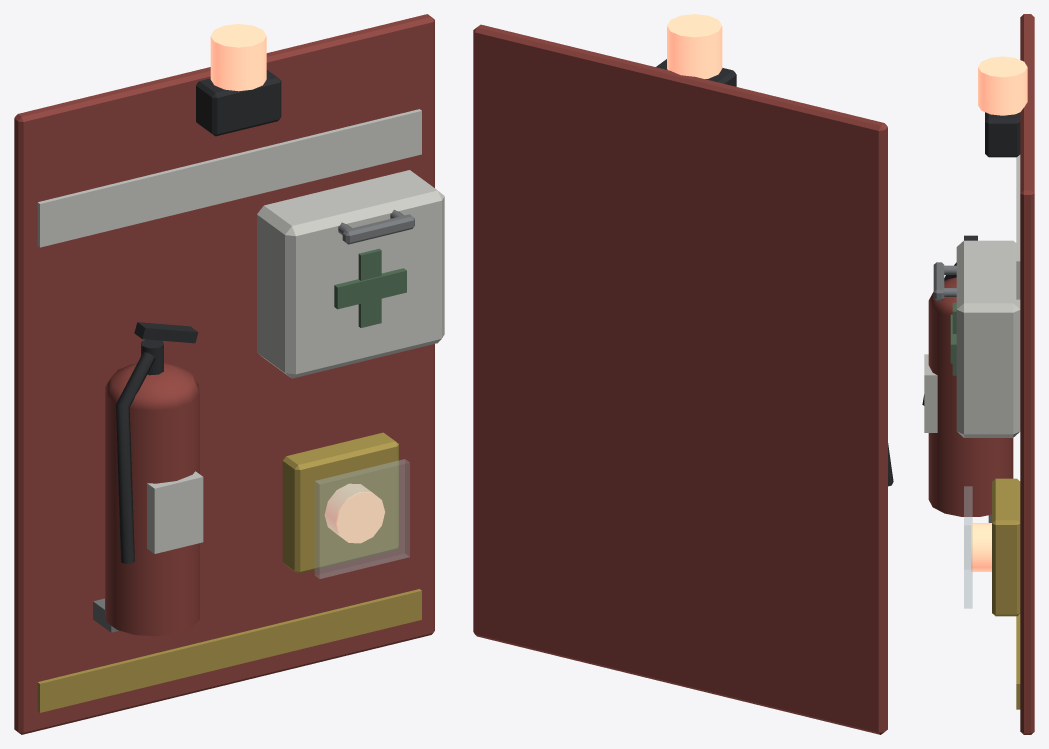
The model's file is astro_emergency_station.fbx.
3 renders of one model, left to right at view 1: azimuth 30°, elevation 25°; view 2: azimuth 150°, elevation 25°; view 3: azimuth 270°, elevation 25°, orthographic. The views are drawn at different scales.
Parts seen in each view (by area): view 1: EmergencyStation_Body; view 2: EmergencyStation_Body; view 3: EmergencyStation_Body.
Part boxes in pixels (<box>): EmergencyStation_Body: <box>14,14,444,734</box>; EmergencyStation_Body: <box>473,14,893,734</box>; EmergencyStation_Body: <box>922,14,1034,734</box>.
Size of the model in its own units: 120 by 181 by 31.73.
